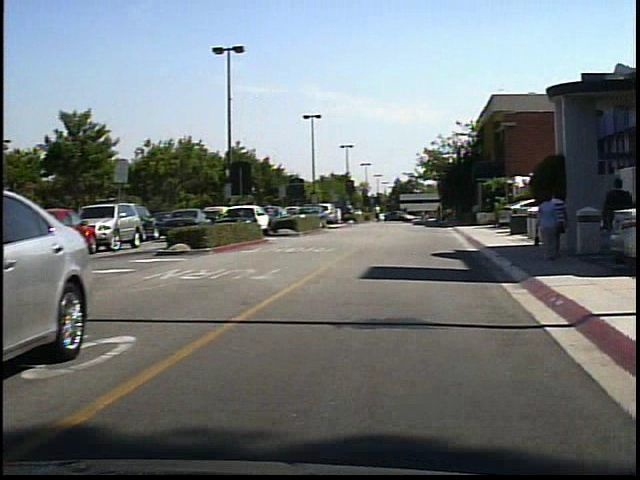person: (543, 190, 571, 266), (602, 170, 638, 214), (557, 189, 576, 261), (380, 202, 390, 225)
